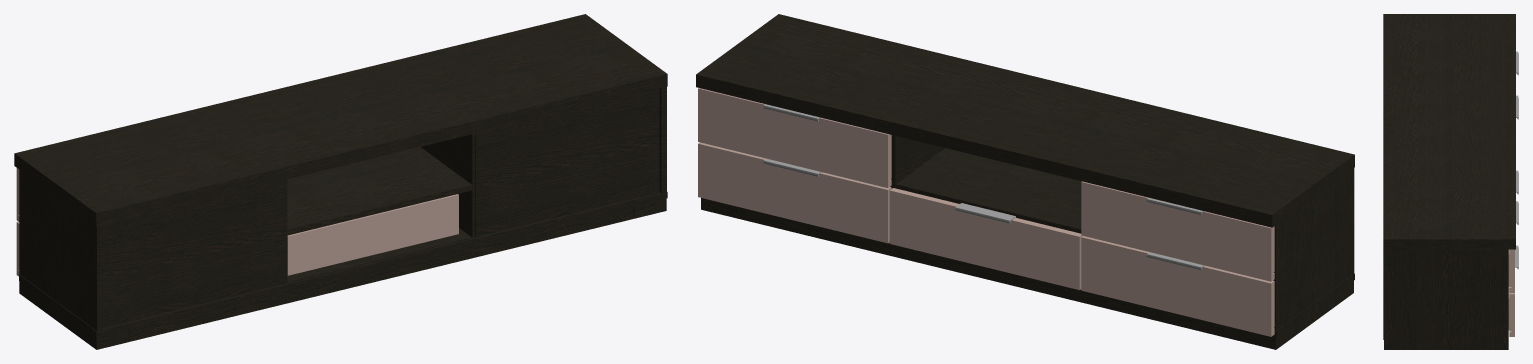
The model's file is shelf_TV1.glb.
3 renders of one model, left to right at view 1: azimuth 30°, elevation 25°; view 2: azimuth 150°, elevation 25°; view 3: azimuth 270°, elevation 25°, orthographic. The views are drawn at different scales.
Parts seen in each view (by area): view 1: Body, Object747_Material #39_0, Box; view 2: Body, Box, Object747_Material #39_0, Handle; view 3: Body, Object747_Material #39_0, Box, Handle.
Part boxes in pixels (bbox=[...]): Body: bbox=[14, 14, 666, 349]; Object747_Material #39_0: bbox=[19, 74, 667, 349]; Box: bbox=[16, 168, 458, 276]; Body: bbox=[696, 14, 1354, 348]; Box: bbox=[698, 88, 1274, 336]; Object747_Material #39_0: bbox=[1273, 168, 1354, 349]; Handle: bbox=[763, 104, 1204, 270]; Body: bbox=[1383, 14, 1515, 335]; Object747_Material #39_0: bbox=[1383, 249, 1508, 349]; Box: bbox=[1508, 249, 1514, 336]; Handle: bbox=[1515, 51, 1518, 269].
Size of the model in its own units: 1.8 by 0.412 by 0.455.
Materials: 4 (3 with a texture image).
